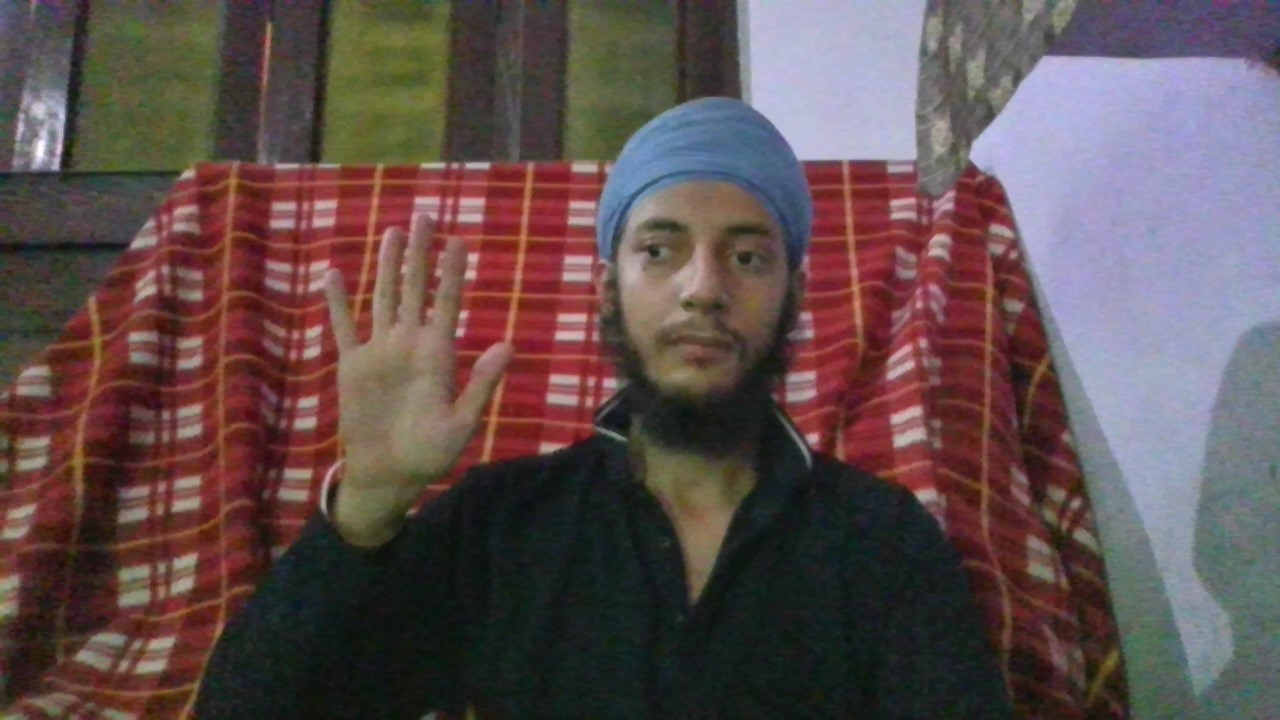Hello: (323, 214, 517, 487)
